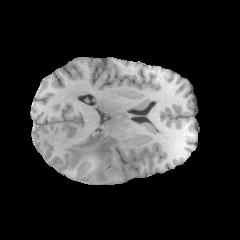glioma: (63, 135, 119, 182)
